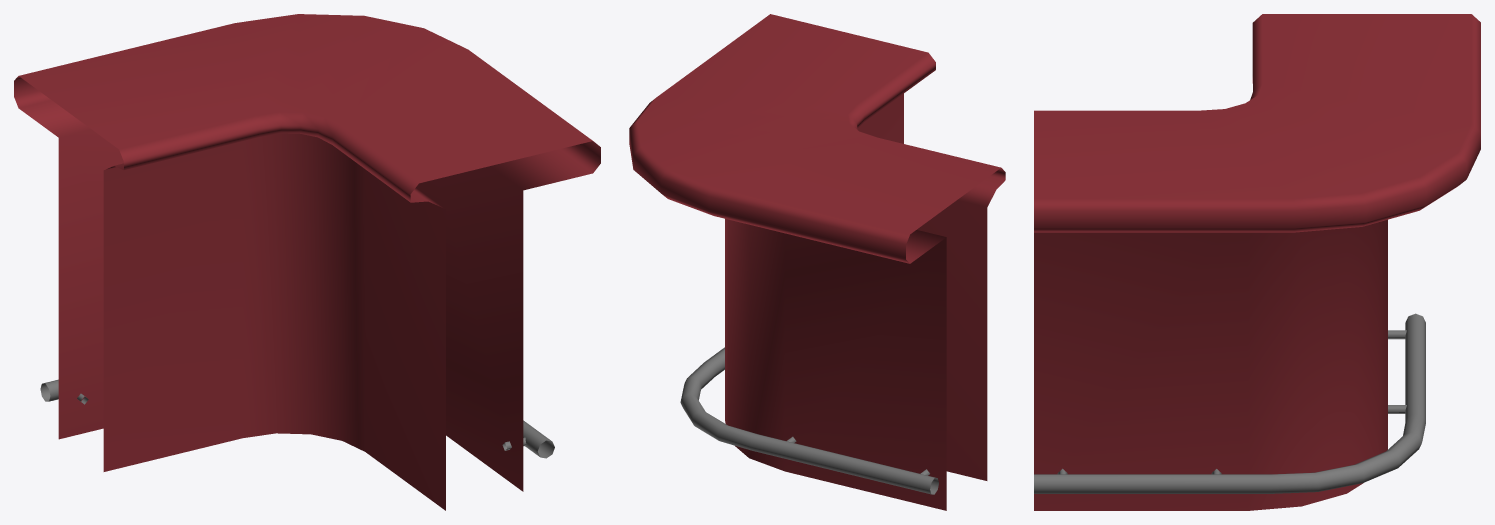
The model's file is Bar set 1.fbx.
3 views of the same model, side by side, from view 1: azimuth 30°, elevation 25°; view 2: azimuth 150°, elevation 25°; view 3: azimuth 270°, elevation 25° (orthographic). The views are drawn at different scales.
Parts seen in each view (by area): view 1: polySurface28; view 2: polySurface28; view 3: polySurface28.
Part boxes in pixels (x1=…): polySurface28: x1=14, y1=14, x2=600, y2=510; polySurface28: x1=629, y1=14, x2=1005, y2=510; polySurface28: x1=1034, y1=14, x2=1480, y2=510.
Bounding box in the file's own units: 120 × 103 × 120.
